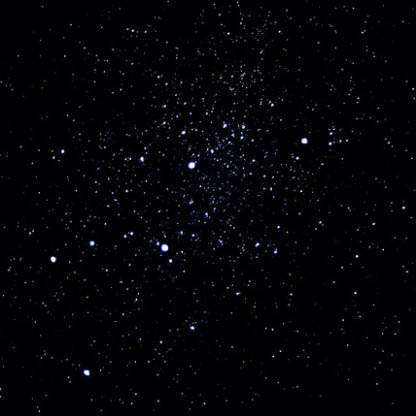Cassiopeia: (38, 238, 101, 273), (288, 129, 322, 162), (173, 146, 209, 177), (72, 363, 104, 387), (150, 232, 174, 261)
